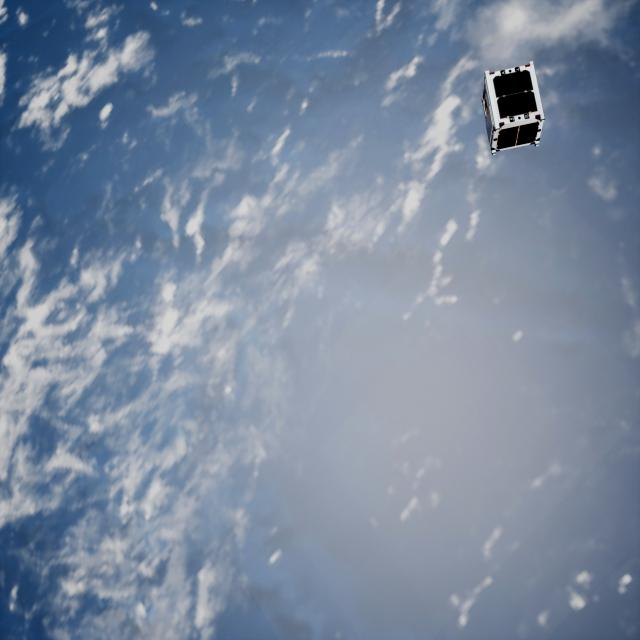medium_debris: (478, 59, 547, 158)
